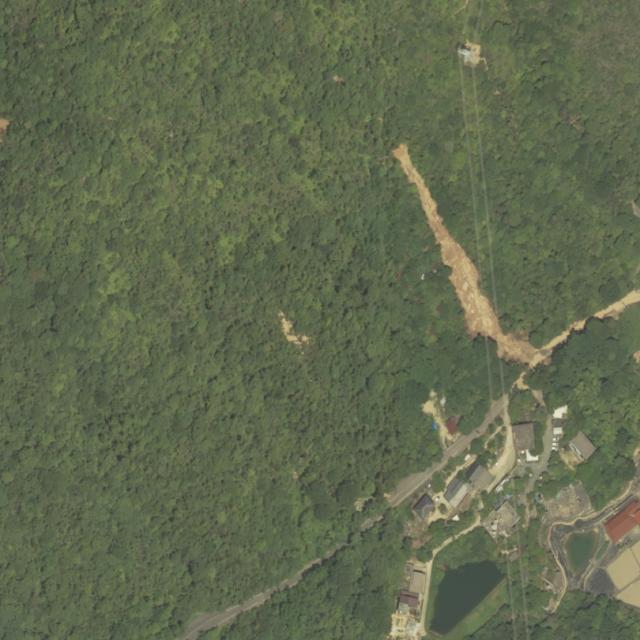landslide: (393, 143, 540, 364)
